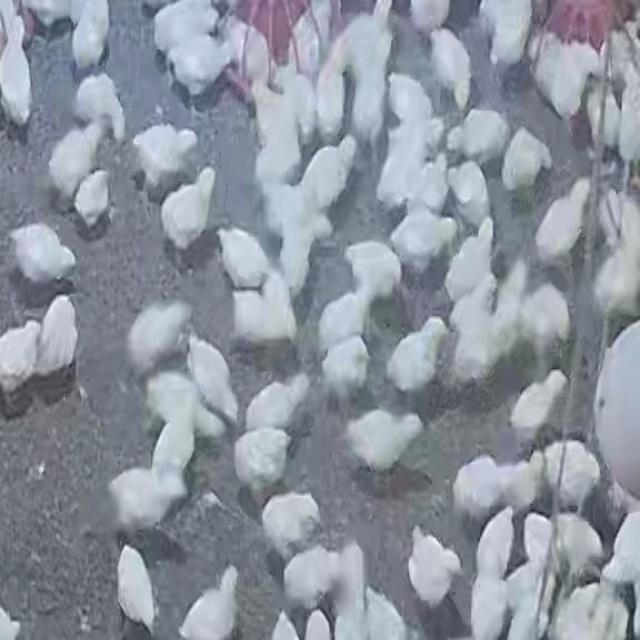chicken: (142, 370, 229, 445), (531, 36, 598, 120), (107, 463, 183, 536), (344, 406, 423, 475), (532, 176, 593, 265), (592, 203, 640, 314), (125, 298, 190, 376), (187, 334, 241, 426), (130, 121, 198, 194), (230, 276, 298, 349), (452, 454, 526, 520), (159, 166, 216, 251), (532, 439, 601, 509), (377, 115, 432, 202), (389, 202, 457, 270), (48, 123, 104, 205), (406, 526, 462, 607), (231, 422, 292, 496), (442, 217, 494, 303), (509, 370, 569, 444), (263, 175, 332, 239), (259, 491, 323, 558), (347, 33, 388, 136), (389, 314, 444, 390), (178, 572, 238, 640), (166, 34, 231, 96), (548, 583, 620, 638), (313, 36, 353, 135), (217, 14, 269, 90), (333, 590, 412, 640), (298, 141, 352, 214), (72, 74, 128, 144), (257, 116, 304, 199), (245, 374, 311, 433), (11, 225, 75, 284), (282, 543, 340, 608), (499, 125, 553, 194), (453, 313, 505, 384), (493, 260, 531, 356), (217, 224, 273, 289), (116, 544, 158, 630), (450, 106, 512, 164), (479, 0, 535, 64), (291, 1, 336, 80), (36, 294, 78, 378), (0, 20, 33, 126), (428, 26, 472, 105), (150, 0, 218, 51), (469, 504, 515, 579), (346, 240, 402, 301), (521, 283, 571, 351), (554, 508, 604, 576), (317, 336, 369, 401), (0, 318, 42, 394), (155, 410, 194, 491), (447, 156, 492, 226), (465, 565, 507, 640), (316, 289, 366, 350), (448, 273, 499, 332), (272, 215, 312, 290), (505, 582, 555, 640), (382, 72, 431, 131), (588, 80, 626, 154), (501, 553, 555, 604), (252, 79, 292, 144), (279, 65, 316, 135), (407, 155, 445, 223), (71, 0, 110, 66), (519, 506, 557, 572), (616, 67, 640, 163), (25, 0, 72, 29), (408, 0, 450, 32)
